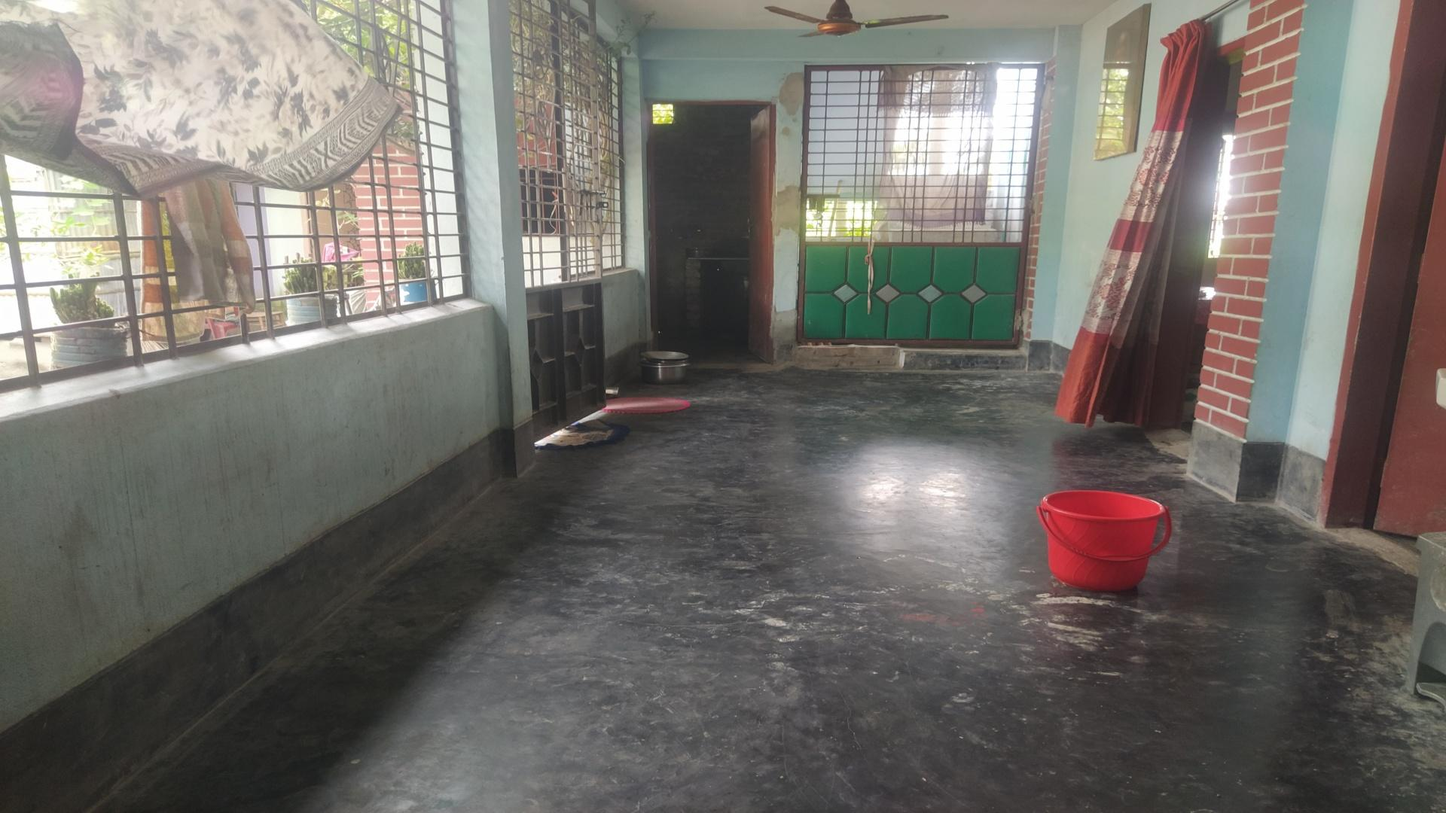Bucket: (1041, 496, 1168, 593)
Door: (802, 65, 1040, 347), (643, 100, 772, 365)
